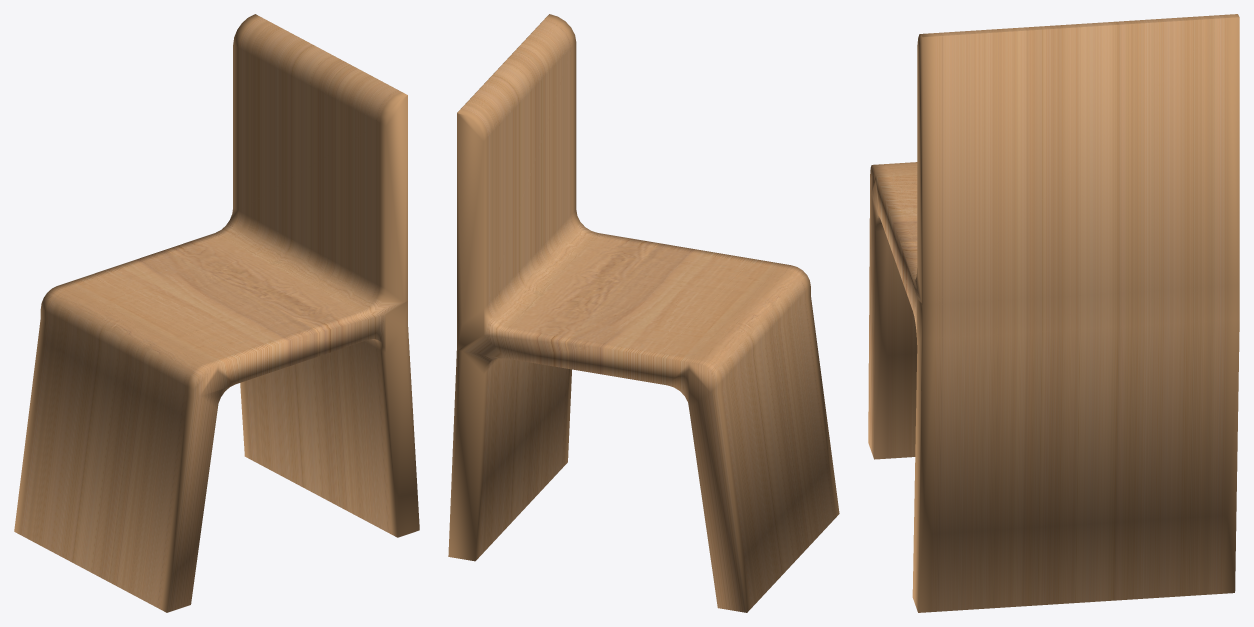
The model's file is chair.glb.
3 renders of one model, left to right at view 1: azimuth 30°, elevation 25°; view 2: azimuth 150°, elevation 25°; view 3: azimuth 270°, elevation 25°, orthographic. The views are drawn at different scales.
Visible parts, largest first — view 1: Plane.002; view 2: Plane.002; view 3: Plane.002.
Part boxes in pixels (left/top/right/bottom): Plane.002: left=14, top=14, right=419, bottom=612; Plane.002: left=448, top=14, right=839, bottom=612; Plane.002: left=868, top=14, right=1239, bottom=612.
Bounding box in the file's own units: 3.98 × 5.5 × 3.24.
Materials: 1 (1 with a texture image).
